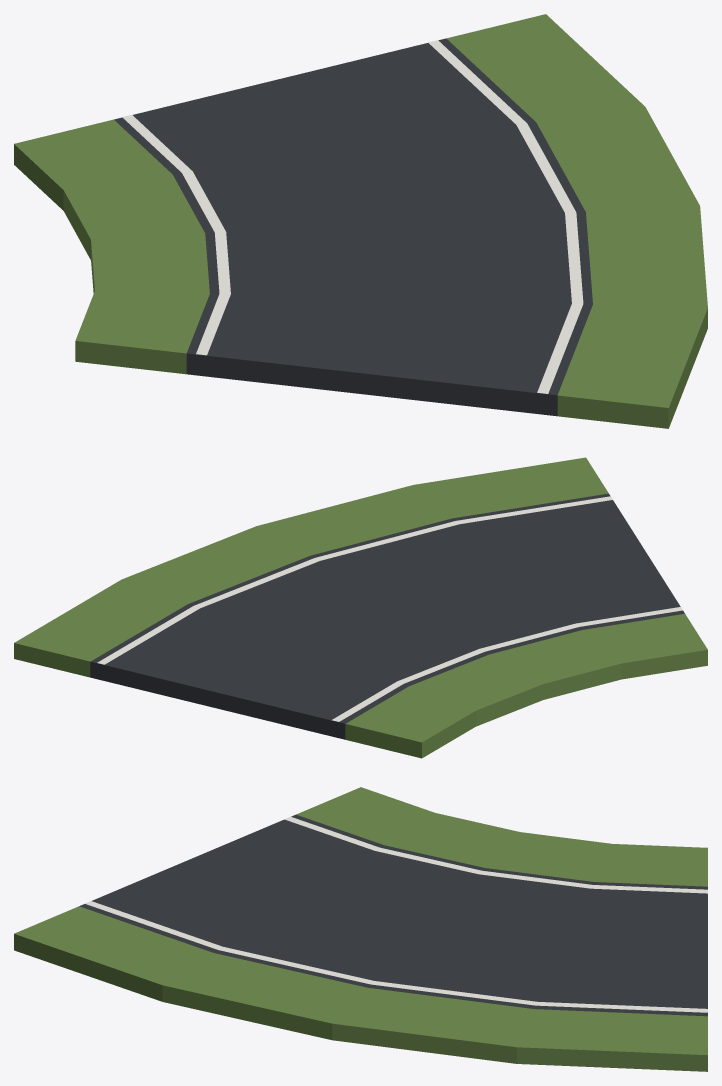
Rendered from HighwayRamp_1Lane_Curve45_R.glb.
3 renders of one model, top to bottom at view 1: azimuth 30°, elevation 25°; view 2: azimuth 150°, elevation 25°; view 3: azimuth 270°, elevation 25°, orthographic. The views are drawn at different scales.
Parts seen in each view (by area): view 1: HighwayRamp_1Lane_Curve45_R_Asphalt, HighwayRamp_1Lane_Curve45_R_Grass-edge, HighwayRamp_1Lane_Curve45_R_PaintWhite; view 2: HighwayRamp_1Lane_Curve45_R_Asphalt, HighwayRamp_1Lane_Curve45_R_Grass-edge, HighwayRamp_1Lane_Curve45_R_PaintWhite; view 3: HighwayRamp_1Lane_Curve45_R_Asphalt, HighwayRamp_1Lane_Curve45_R_Grass-edge, HighwayRamp_1Lane_Curve45_R_PaintWhite.
Boxes of the visible parts, x1,y1,x2,y2 form: HighwayRamp_1Lane_Curve45_R_Asphalt: [114, 38, 592, 416]; HighwayRamp_1Lane_Curve45_R_Grass-edge: [14, 14, 707, 428]; HighwayRamp_1Lane_Curve45_R_PaintWhite: [122, 40, 583, 393]; HighwayRamp_1Lane_Curve45_R_Asphalt: [90, 493, 684, 739]; HighwayRamp_1Lane_Curve45_R_Grass-edge: [14, 457, 707, 758]; HighwayRamp_1Lane_Curve45_R_PaintWhite: [97, 496, 682, 721]; HighwayRamp_1Lane_Curve45_R_Asphalt: [79, 814, 707, 1016]; HighwayRamp_1Lane_Curve45_R_Grass-edge: [14, 787, 707, 1071]; HighwayRamp_1Lane_Curve45_R_PaintWhite: [85, 816, 707, 1012].
Bounding box in the file's own units: 10.34 × 0.305 × 11.31.
